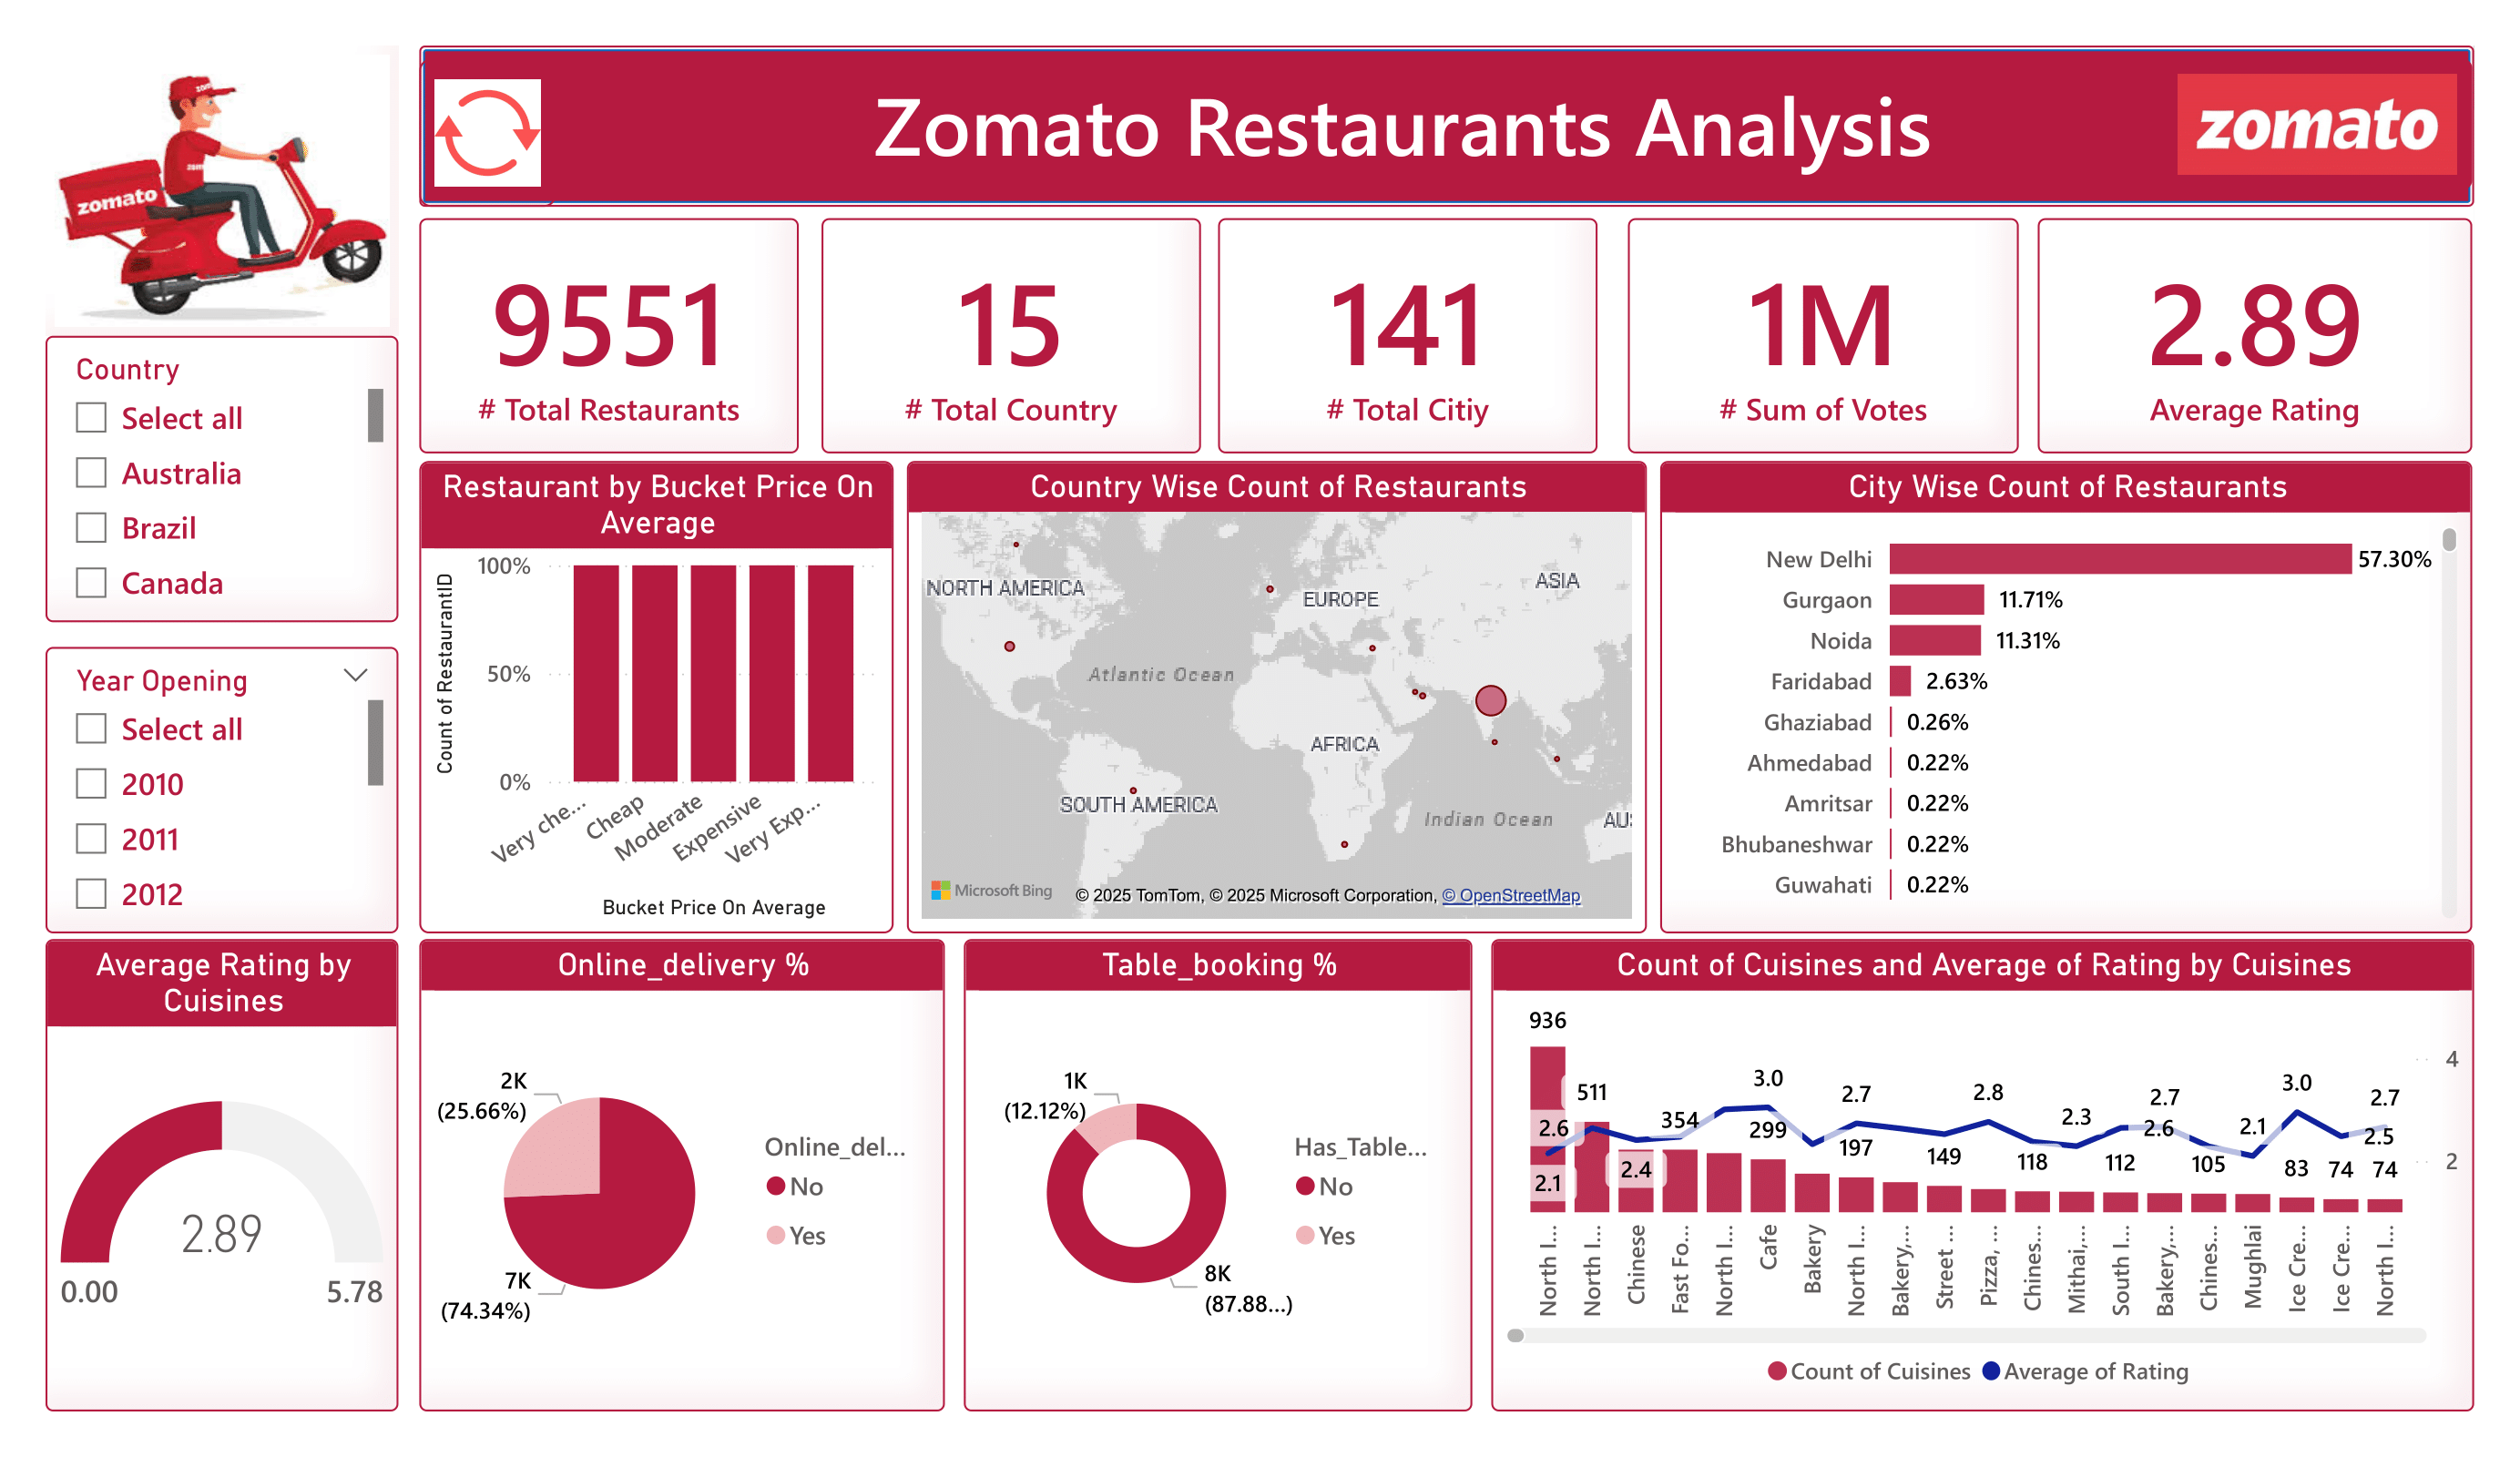

The dashboard page shown, as its layout file describes it:
{"tool":"powerbi","page":{"name":"Page 1","canvas":[1280,720],"ordinal":0},"visuals":[{"type":"slicer","fields":{"Values":["Country.Countryname"]},"box":[0,152.6,185.8,151.2],"z":0},{"type":"slicer","fields":{"Values":["Main.Year Opening"]},"box":[0,316.8,185.8,151.2],"z":1000},{"type":"clusteredBarChart","title":"City Wise Count of Restaurants","fields":{"Category":["Main.City"],"Y":["CountNonNull(Main.RestaurantID)"]},"box":[851,218.9,427.7,249.1],"z":2000},{"type":"clusteredColumnChart","title":"Restaurant by Bucket Price On Average","fields":{"Category":["Main.Bucket Price On Average"],"Y":["CountNonNull(Main.RestaurantID)"]},"box":[197,219,250,249],"z":3000},{"type":"donutChart","title":"Table_booking %","fields":{"Category":["Main.Has_Table_booking"],"Y":["Main.Total Restaurants"]},"box":[483.8,470.9,267.8,249.1],"z":4000},{"type":"pieChart","title":" Online_delivery %","fields":{"Category":["Main.Has_Online_delivery"],"Y":["Main.Total Restaurants"]},"box":[197.3,470.9,276.5,249.1],"z":5000},{"type":"shape","box":[197.3,0,1082.9,85],"z":6000},{"type":"card","fields":{"Values":["Main.Total Restaurants"]},"box":[197.3,90.7,200.2,123.8],"z":7000},{"type":"card","fields":{"Values":["Main.Total Country"]},"box":[409,90.7,200.2,123.8],"z":8000},{"type":"card","fields":{"Values":["Main.Total Cities"]},"box":[617.8,90.7,200.2,123.8],"z":9000},{"type":"card","fields":{"Values":["Sum(Main.Votes)"]},"box":[833.8,90.7,205.9,123.8],"z":10000},{"type":"card","fields":{"Values":["Avg(Main.Rating)"]},"box":[1049.8,90.7,229,123.8],"z":11000},{"type":"image","box":[1116,7,163,69],"z":12000},{"type":"image","box":[0,0,186,153],"z":13000},{"type":"lineStackedColumnComboChart","fields":{"Category":["Main.Cuisines"],"Y":["CountNonNull(Main.Cuisines)"],"Y2":["Avg(Main.Rating)"]},"box":[761.8,470.9,518.4,249.1],"z":14000},{"type":"map","title":" Country Wise Count of Restaurants","fields":{"Category":["Country.Countryname"],"Size":["CountNonNull(Main.RestaurantID)"]},"box":[454,219,390,249],"z":15000},{"type":"gauge","title":"Average Rating by Cuisines","fields":{"Y":["Avg(Main.Rating)"]},"box":[0,470.9,185.8,249.1],"z":16000},{"type":"textbox","title":"Zomato Resataurants Analysis","box":[315.4,7.2,800.6,69.1],"z":17000},{"type":"image","box":[197.3,7.2,72,77.8],"z":18000}]}

Visuals, with their boxes in screenshot pixels (x1, y1, x2, y2):
slicer - Country.Countryname: [46, 335, 398, 622]
slicer - Main.Year Opening: [46, 647, 398, 933]
"City Wise Count of Restaurants" clusteredBarChart: [1660, 461, 2472, 933]
"Restaurant by Bucket Price On Average" clusteredColumnChart: [419, 461, 893, 933]
"Table_booking %" donutChart: [964, 939, 1472, 1411]
" Online_delivery %" pieChart: [420, 939, 944, 1411]
shape: [420, 46, 2474, 207]
card - Main.Total Restaurants: [420, 218, 800, 453]
card - Main.Total Country: [821, 218, 1201, 453]
card - Main.Total Cities: [1218, 218, 1597, 453]
card - Sum(Main.Votes): [1627, 218, 2018, 453]
card - Avg(Main.Rating): [2037, 218, 2472, 453]
image: [2163, 59, 2473, 189]
image: [46, 46, 399, 336]
lineStackedColumnComboChart - Main.Cuisines x CountNonNull(Main.Cuisines): [1491, 939, 2474, 1411]
" Country Wise Count of Restaurants" map: [907, 461, 1648, 933]
"Average Rating by Cuisines" gauge: [46, 939, 398, 1411]
"Zomato Resataurants Analysis" textbox: [644, 59, 2163, 190]
image: [420, 59, 556, 207]
